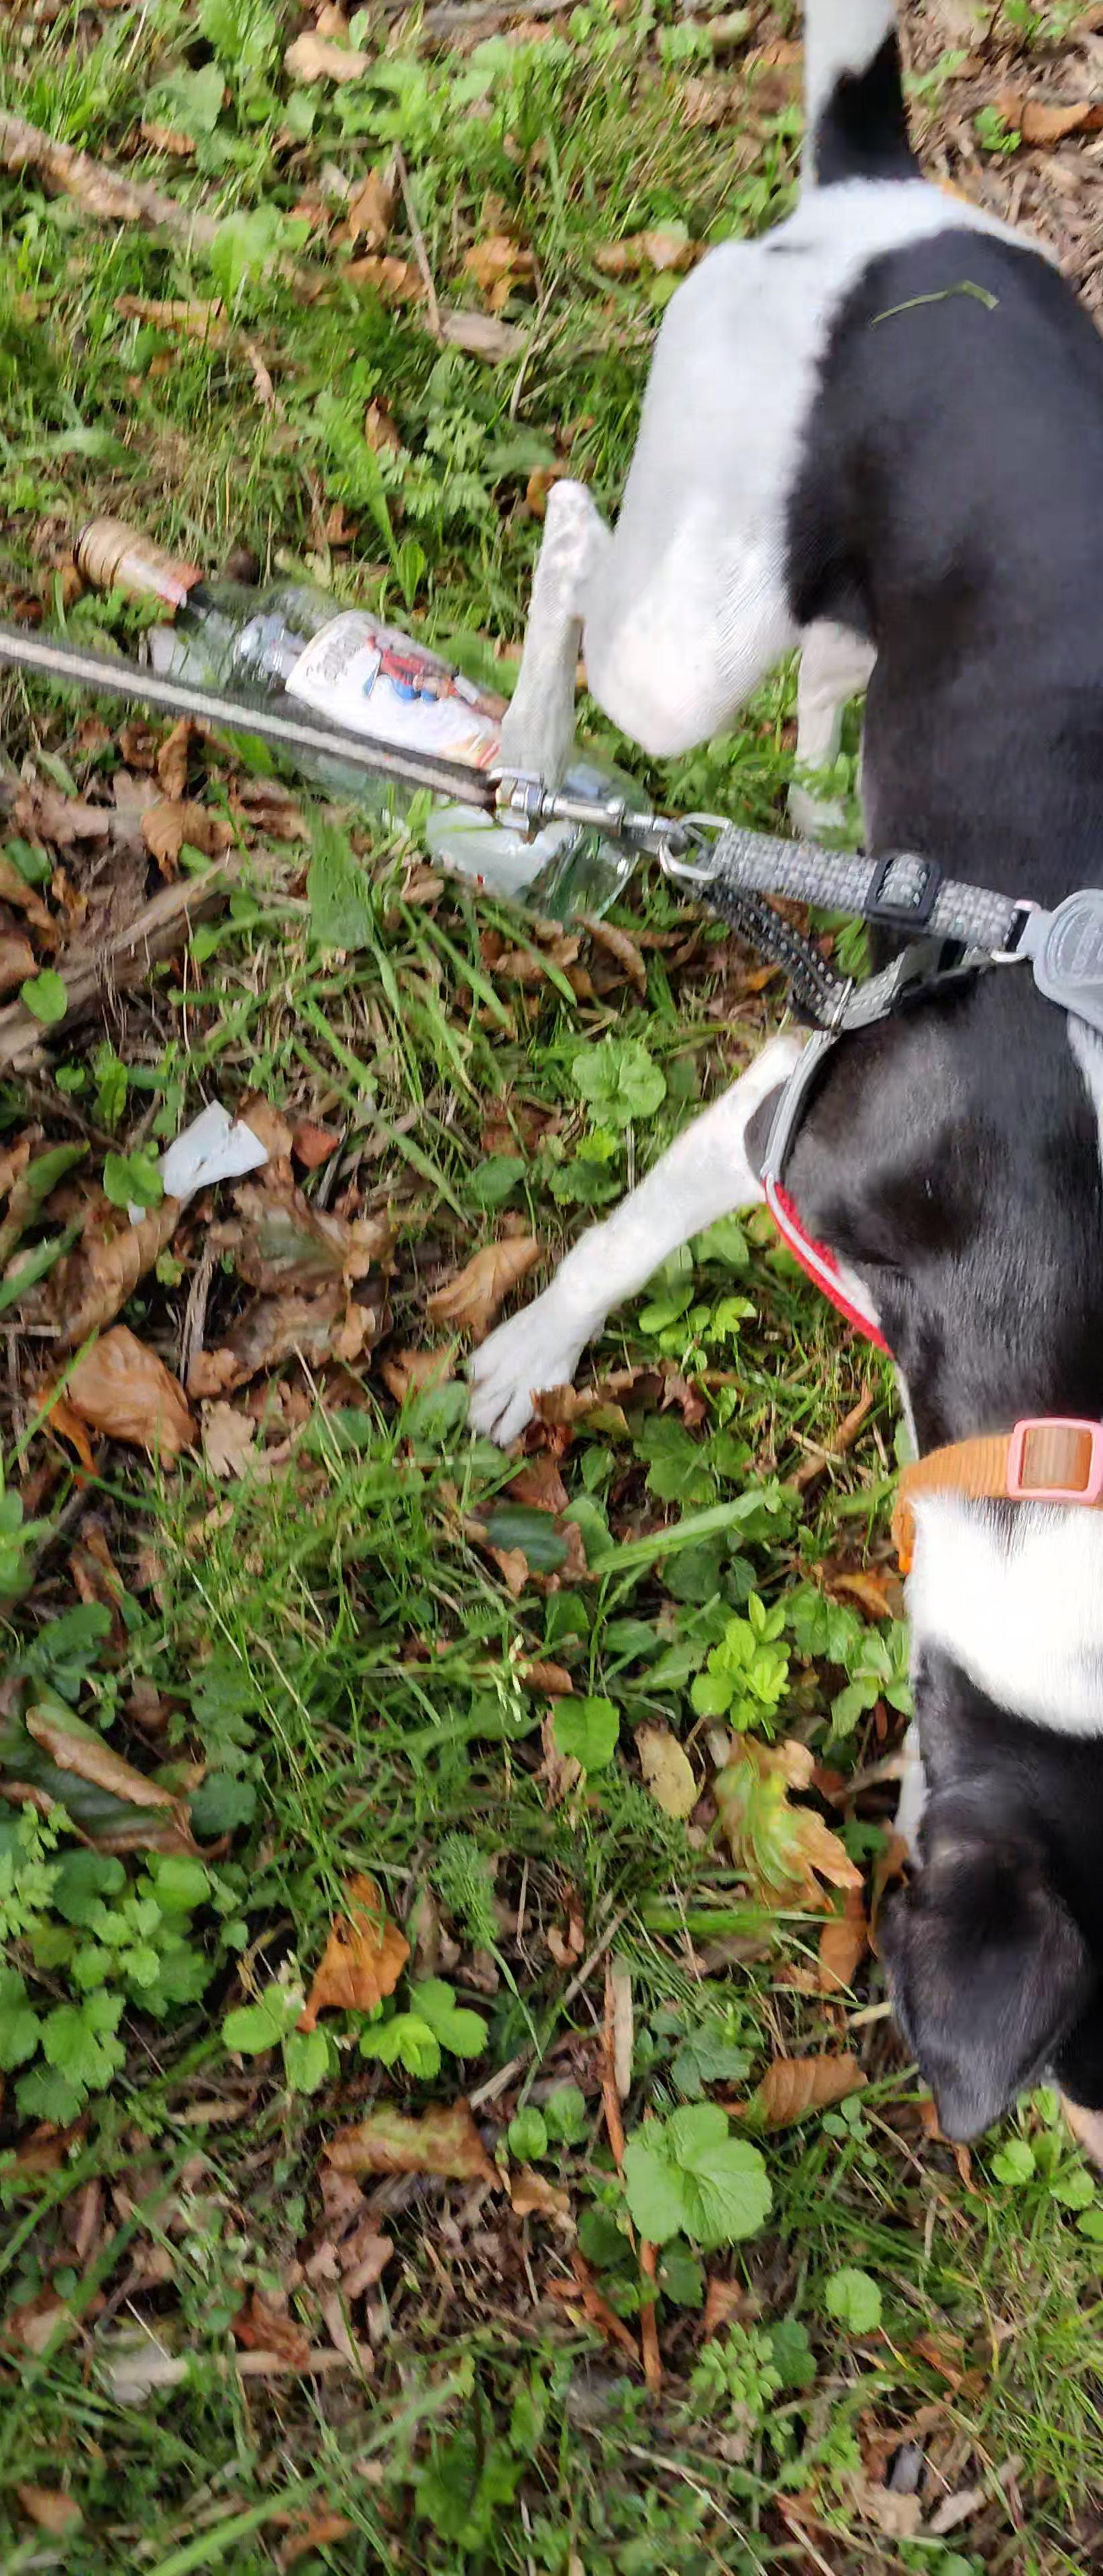Dog: (452, 0, 1103, 2170)
